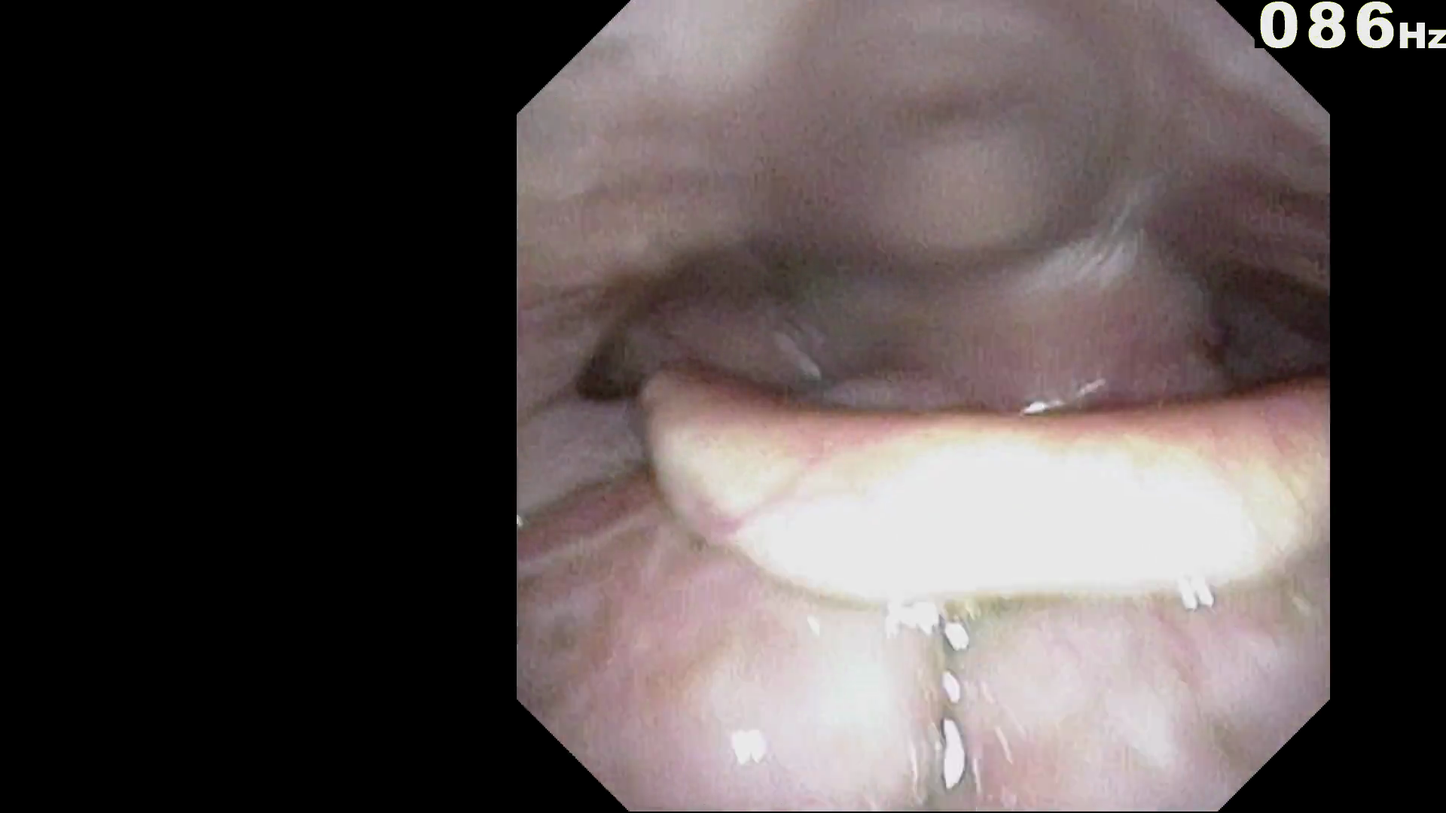epiglottis: (651, 445, 1266, 670)
trachea: (936, 494, 1082, 608)
